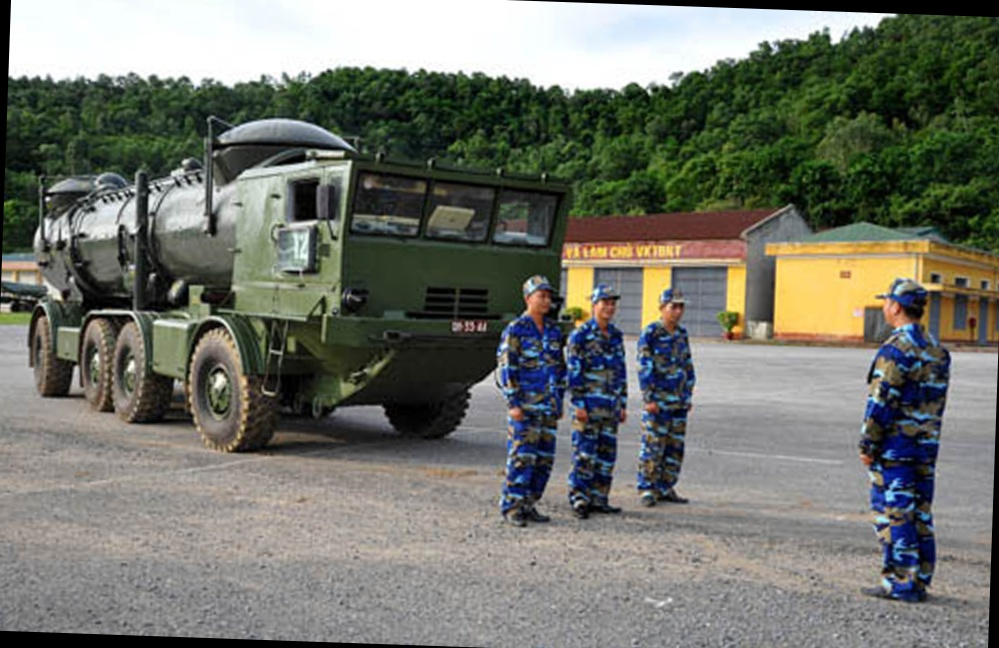plate: (448, 313, 488, 337)
